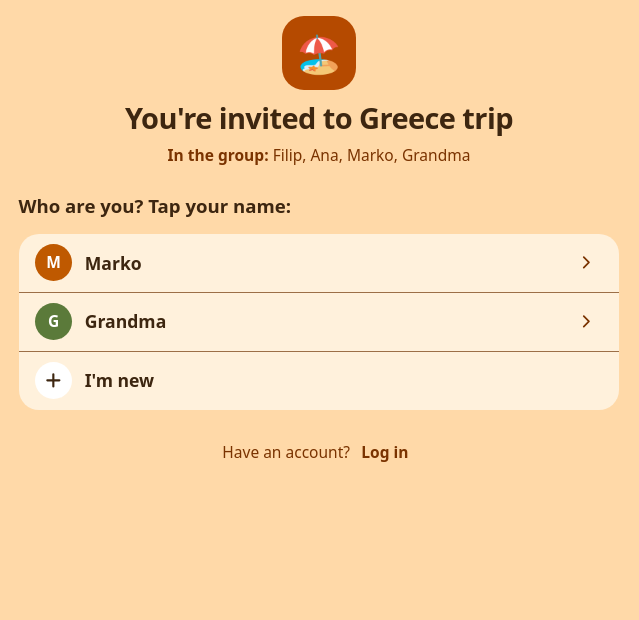
Test: JoinScreen for a visitor without an account › the I'm new row › opens one name field and a Join button, and marks the row as opened
What coordinates should you click on to do the following:
click the button "I'm new"
I would click on:
 (54, 381)
Its box is [18, 352, 620, 410].
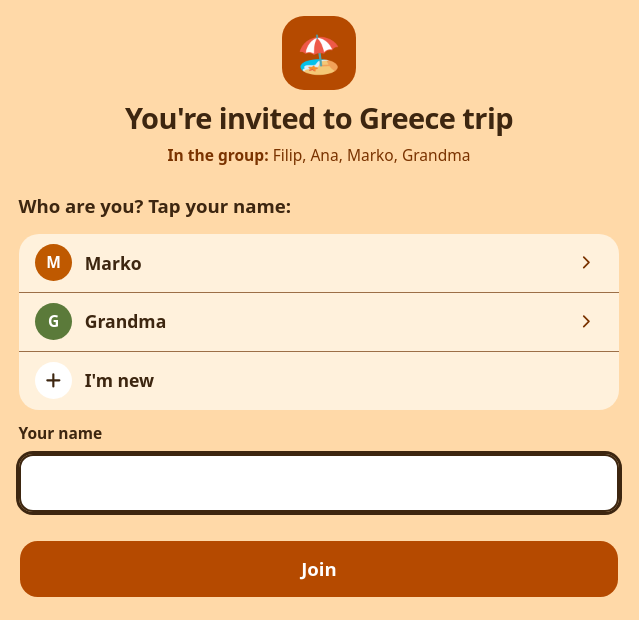
Expected: the field labelled "Your name" is shown, [18, 454, 620, 512]
Expected: the button "Join" is shown, [18, 540, 620, 598]
